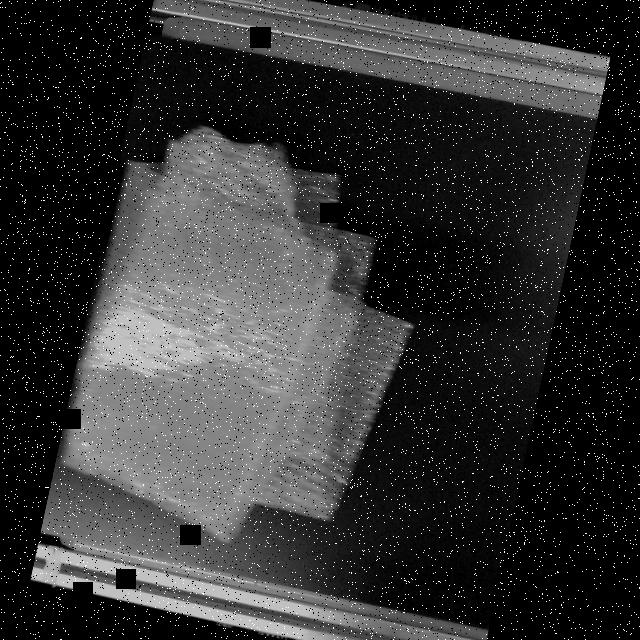scrap_plastic: (47, 100, 451, 570)
